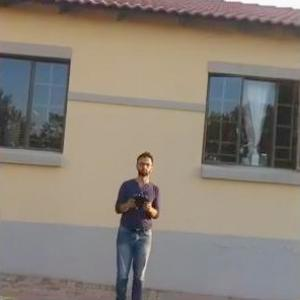follow: (110, 148, 164, 299)
